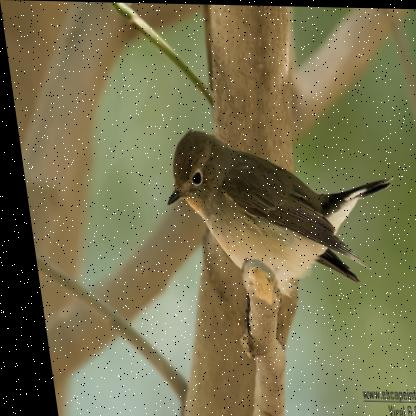Burung: (151, 117, 415, 358)
